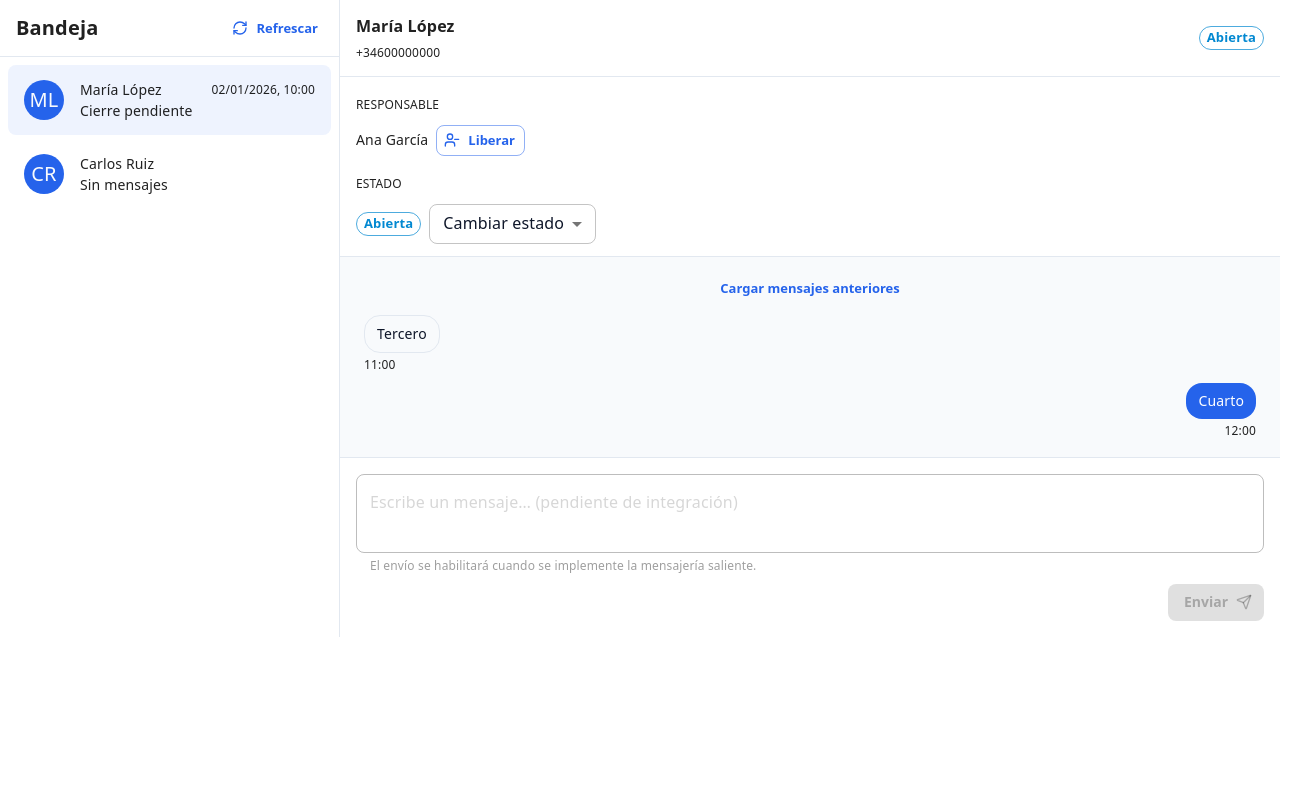
InboxPage › carga mensajes anteriores, los antepone y deduplica
The width and height of the screenshot is (1292, 800).
Click the button "Cargar mensajes anteriores" at (810, 288), box [715,273,905,303]
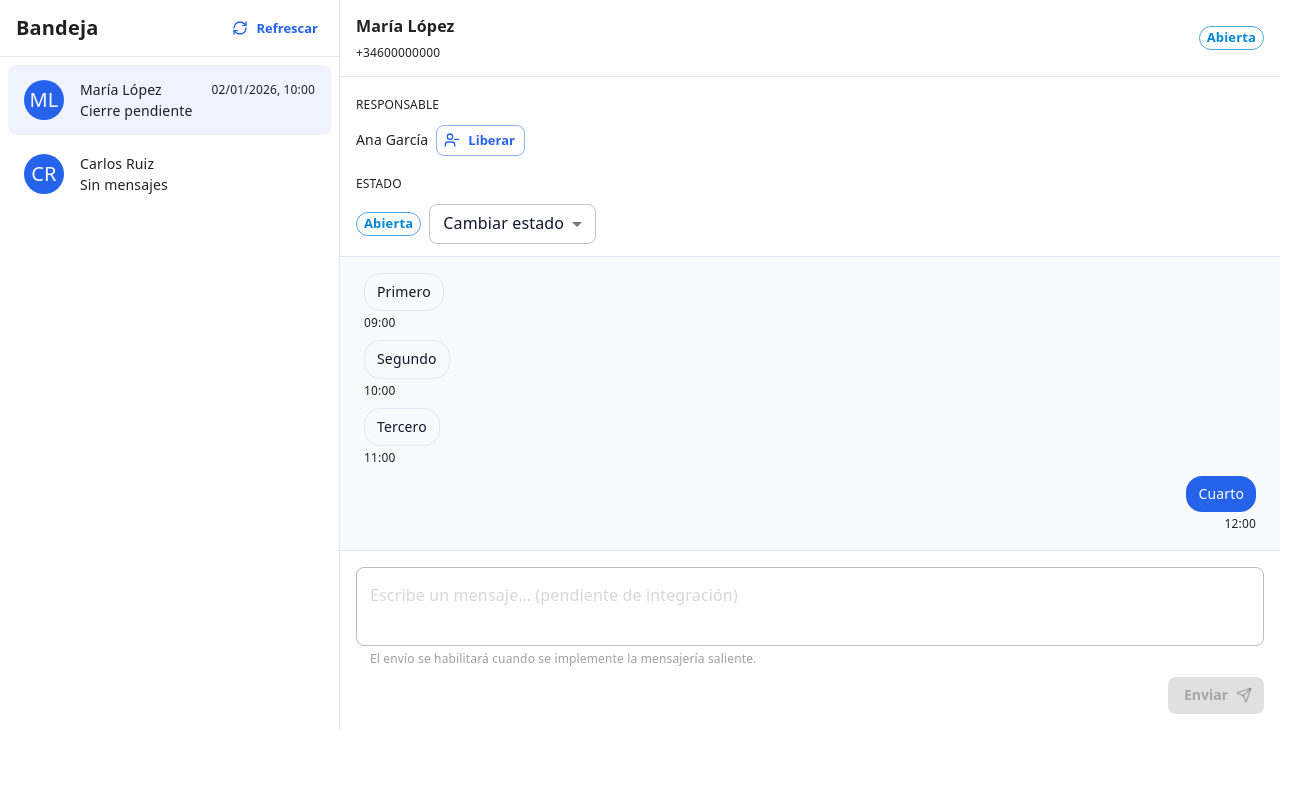
Result: the text "Primero" is shown at [377,282,431,302]
Result: the text "Segundo" is shown at [377,350,437,370]
Result: the text "Tercero" is shown once at [377,417,427,437]
